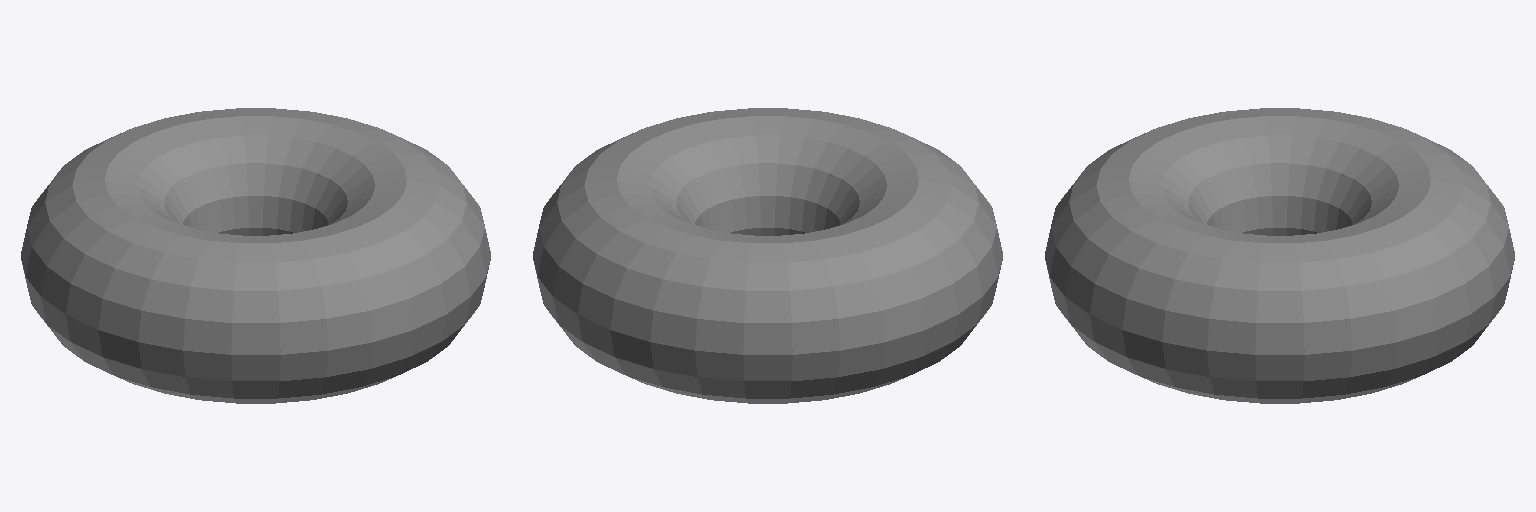
The model's file is SM_Donut.obj.
The picture shows the model from 3 angles: view 1: azimuth 30°, elevation 25°; view 2: azimuth 150°, elevation 25°; view 3: azimuth 270°, elevation 25°; orthographic projection.
Visible parts, largest first — view 1: Torus001; view 2: Torus001; view 3: Torus001.
Part boxes in pixels (x1,y1,x2,y2): Torus001: (21,108,490,403); Torus001: (533,108,1002,403); Torus001: (1045,108,1514,403).
Bounding box in the file's own units: 55.69 × 20 × 56.